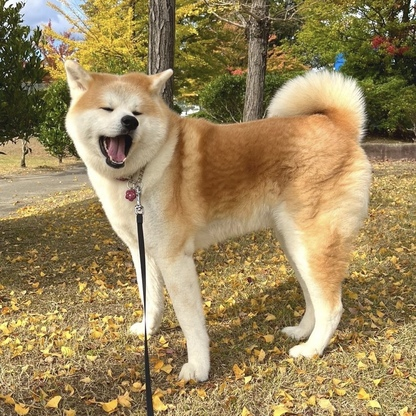akita: (55, 53, 380, 387)
